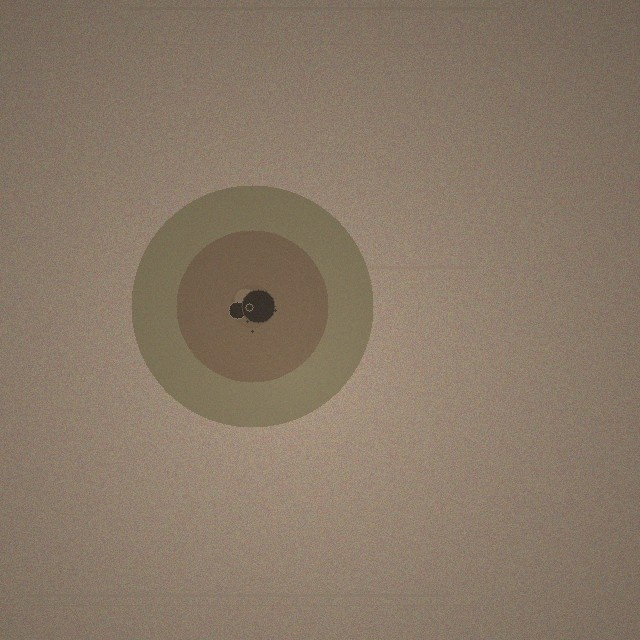shrinkage: (131, 185, 373, 427)
